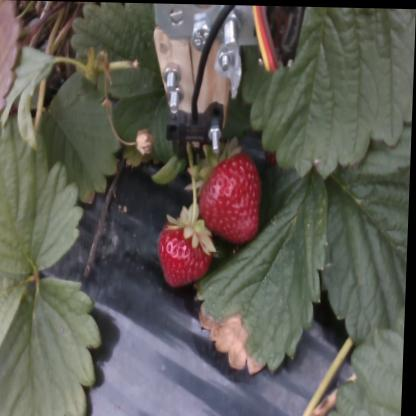ripe: (200, 153, 265, 244), (159, 216, 215, 287)
